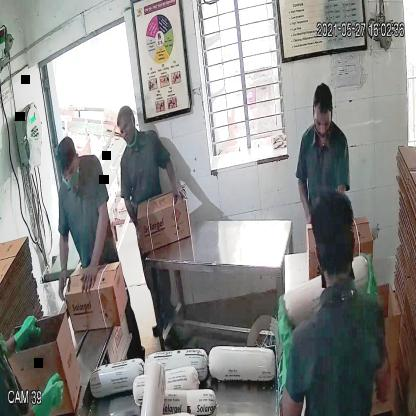no_goggles: (309, 112, 335, 135)
